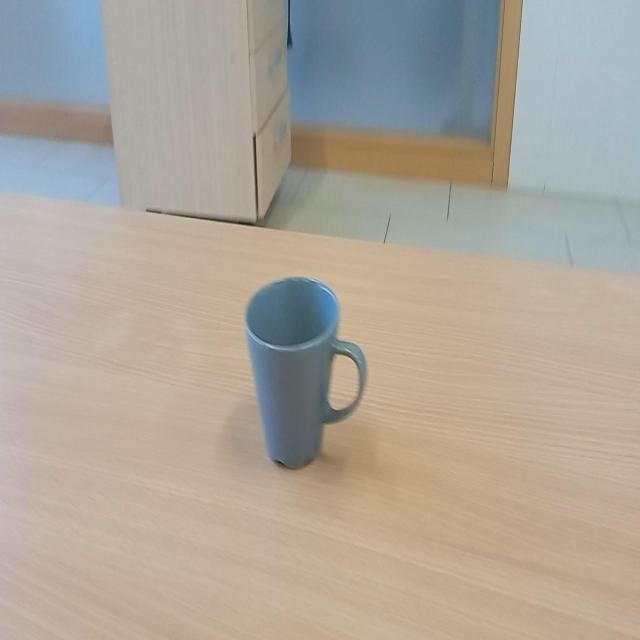cup: (241, 270, 368, 474)
